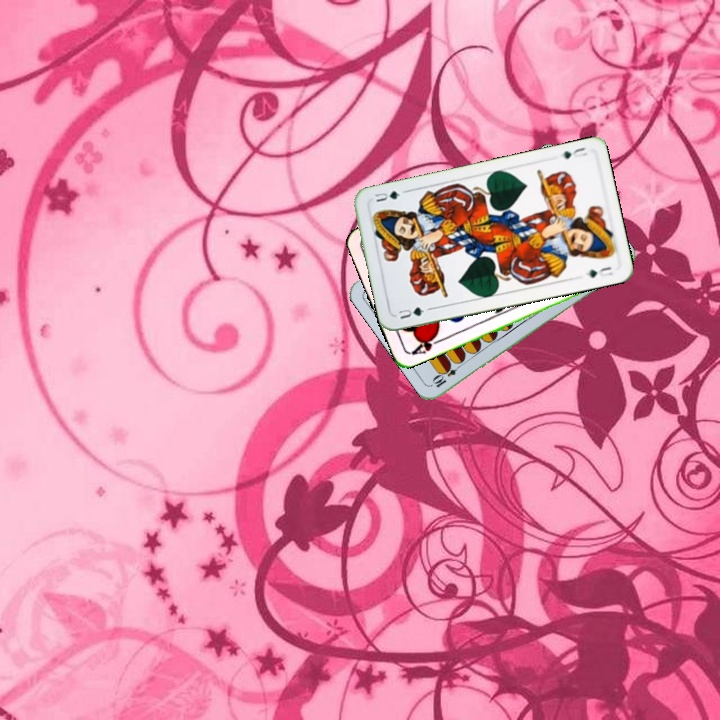E10: (429, 358, 465, 390)
GU: (394, 303, 427, 322), (558, 143, 590, 161)
HA: (407, 330, 445, 358)
